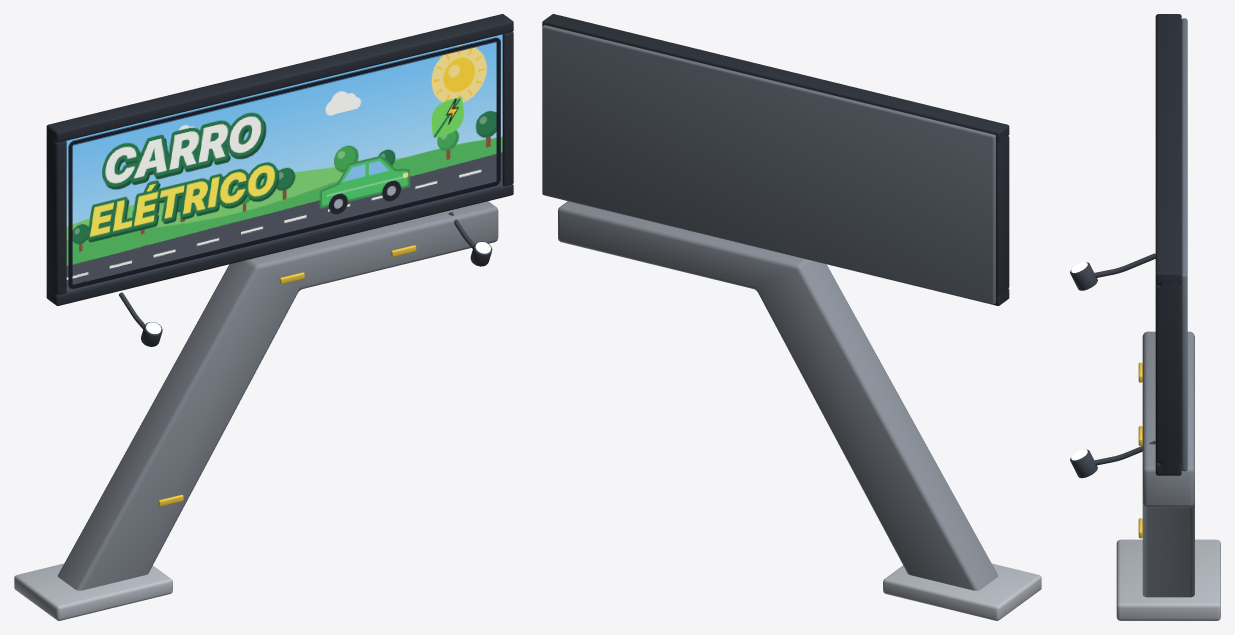
The model's file is outdoor_braco_carro.glb.
3 views of the same model, side by side, from view 1: azimuth 30°, elevation 25°; view 2: azimuth 150°, elevation 25°; view 3: azimuth 270°, elevation 25° (orthographic). The views are drawn at different scales.
Visible parts, largest first — view 1: outdoor_braco_carro; view 2: outdoor_braco_carro; view 3: outdoor_braco_carro.
Part boxes in pixels (x1,y1,x2,y2): outdoor_braco_carro: [14, 14, 513, 620]; outdoor_braco_carro: [542, 14, 1041, 620]; outdoor_braco_carro: [1070, 14, 1220, 620].
Size of the model in its own units: 9.77 by 9.34 by 2.31.
3 materials, 2 textured.
